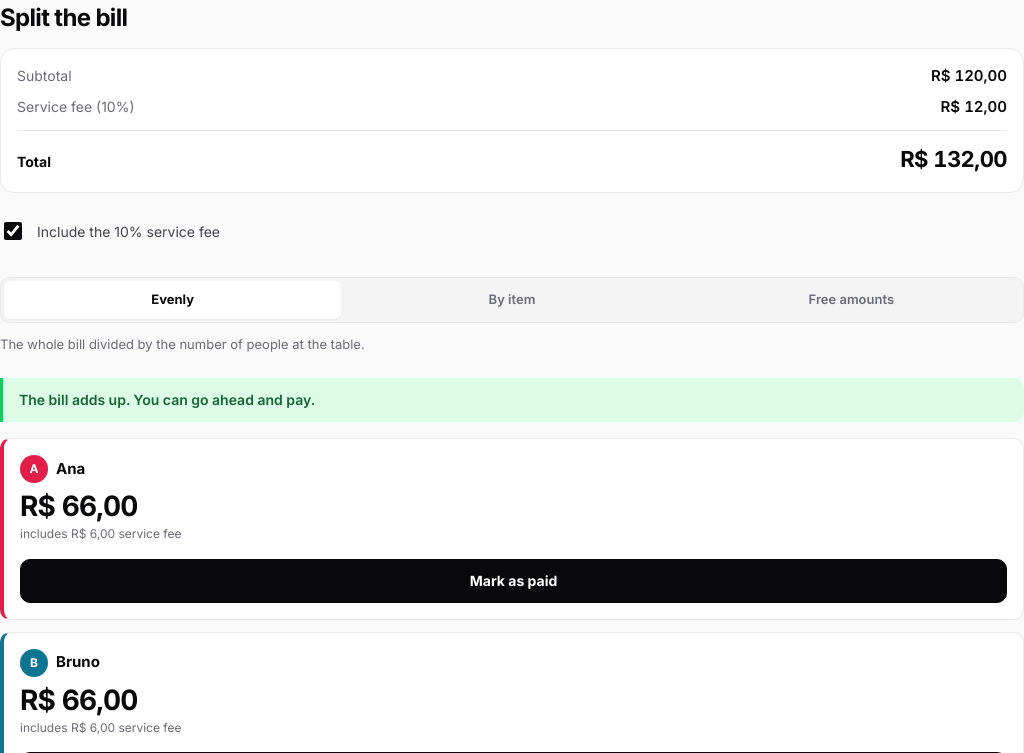
Scenario: BillPage › drops the service fee from the bill when the table unticks it
Click the checkbox labelled "Include the 10% service fee" at point(13, 231), box left=4, top=222, right=22, bottom=240
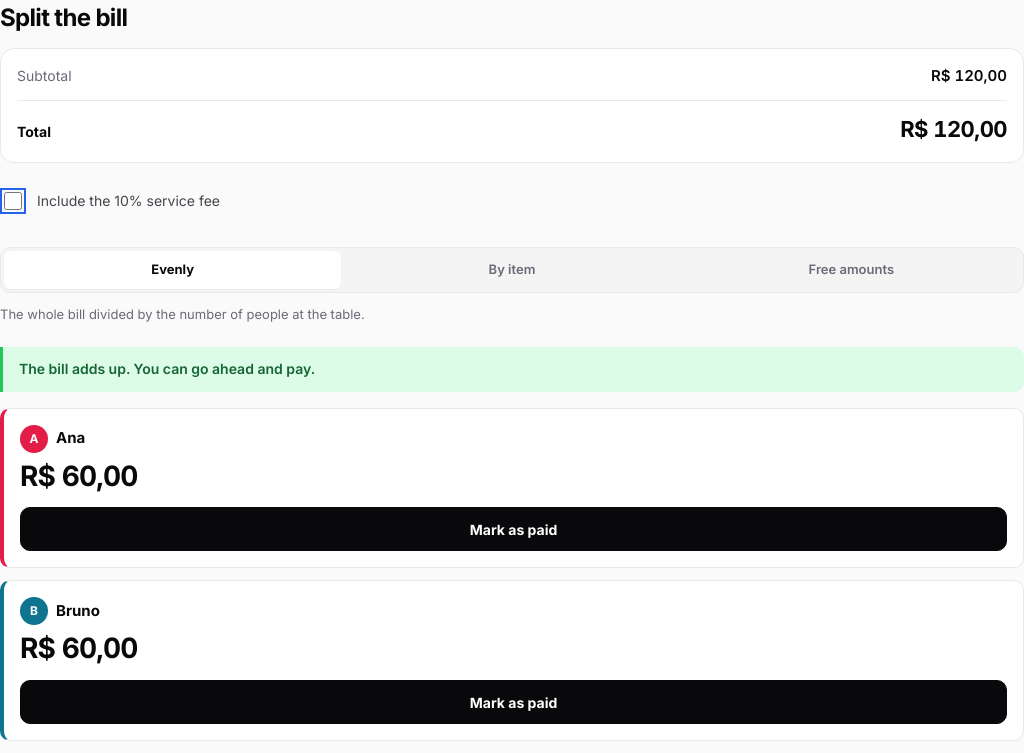
Check: the list item "A Ana R$ 60,00 Mark as paid" is shown, box left=0, top=408, right=1023, bottom=568
Check: the text "Service fee (10%)" is gone
